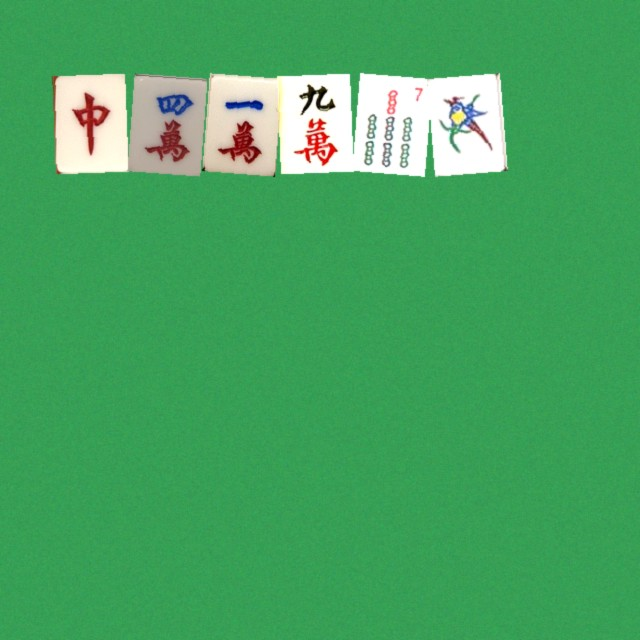tile: (52, 73, 125, 171), (127, 73, 200, 171), (202, 73, 275, 171), (277, 73, 350, 171), (352, 73, 425, 171), (427, 73, 500, 171)
